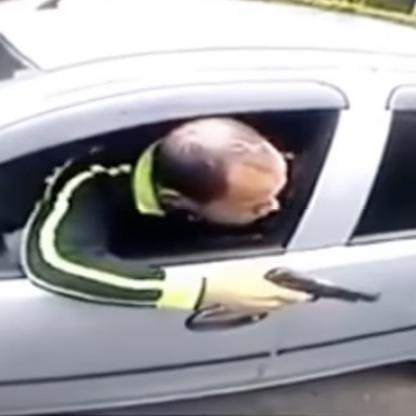criminal: (18, 115, 385, 319)
weapon: (260, 264, 385, 309)
